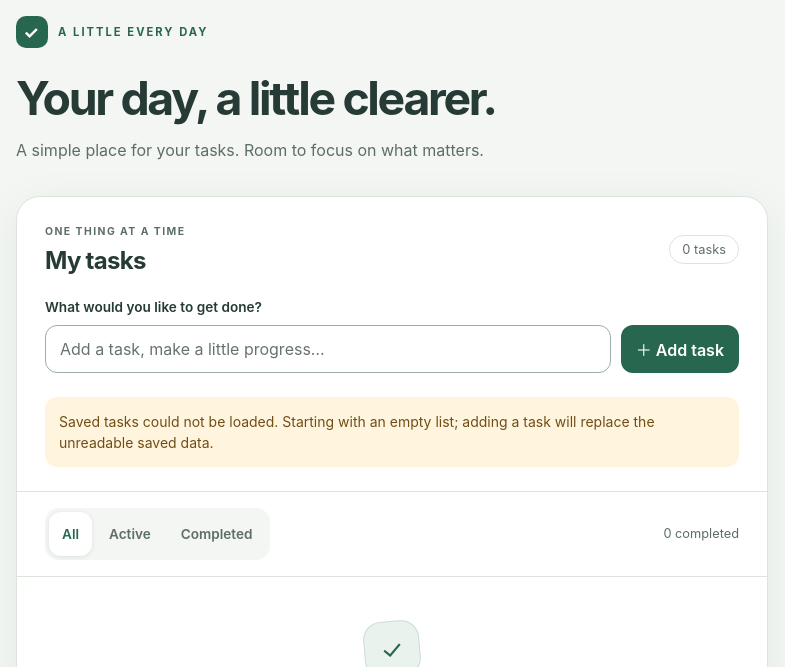
todo app › leaves unreadable data untouched until a valid task mutation
The image size is (785, 667).
Expected: the text "Saved tasks could not be loaded. Starting with an empty list; adding a task will replace the unreadable saved data." is shown, [59,413,655,451]
Click the button "Active": (130, 534) [96,512,164,556]
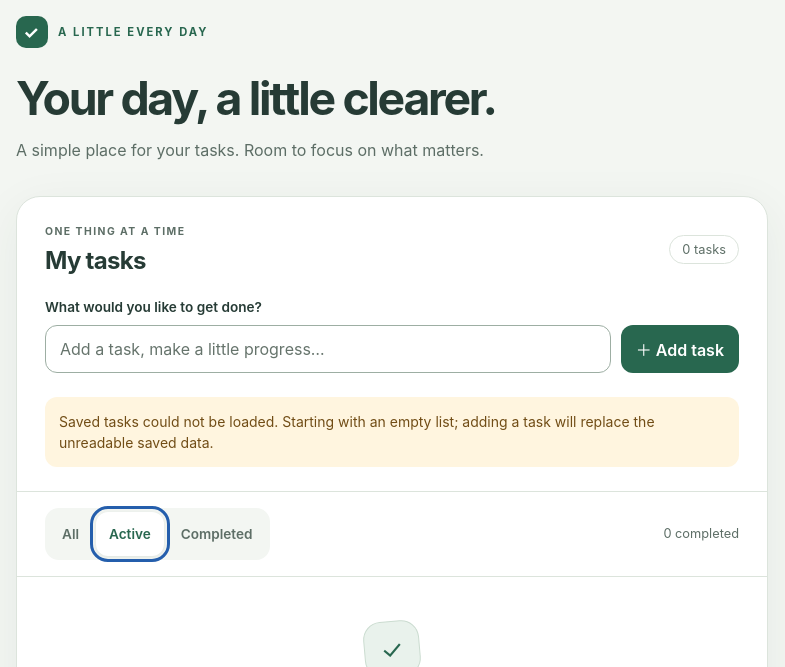
In the field labelled "What would you like to get done?": (328, 349) [45,325,611,373], type "Recover"
Then press Enter
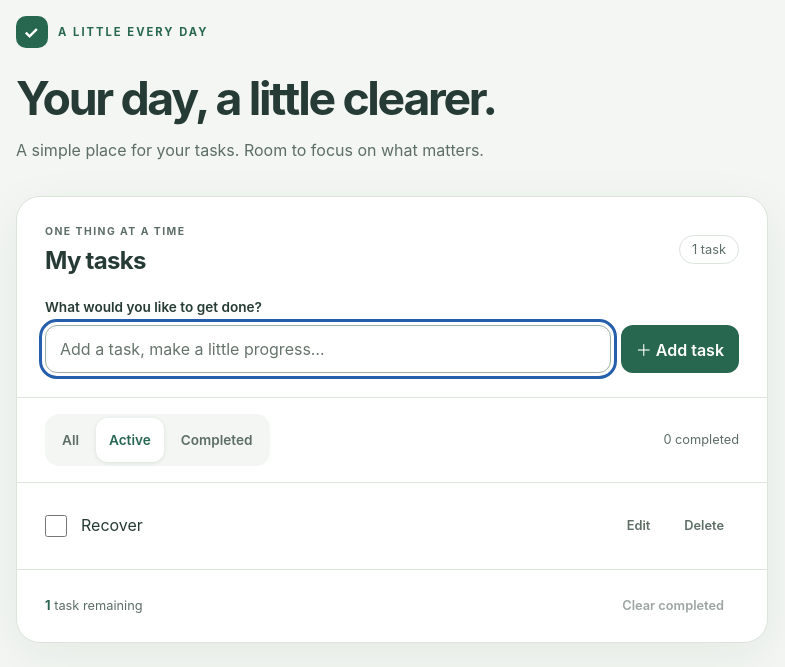
Now the text "Saved tasks could not be loaded. Starting with an empty list; adding a task will replace the unreadable saved data." is gone
Now the text "Recover" is shown, box [81,513,143,538]
